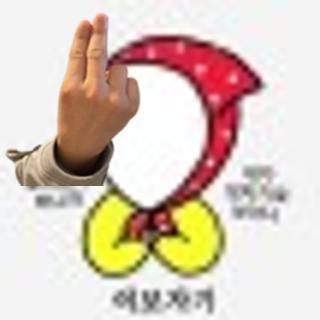DHAVE: (50, 9, 142, 155)
